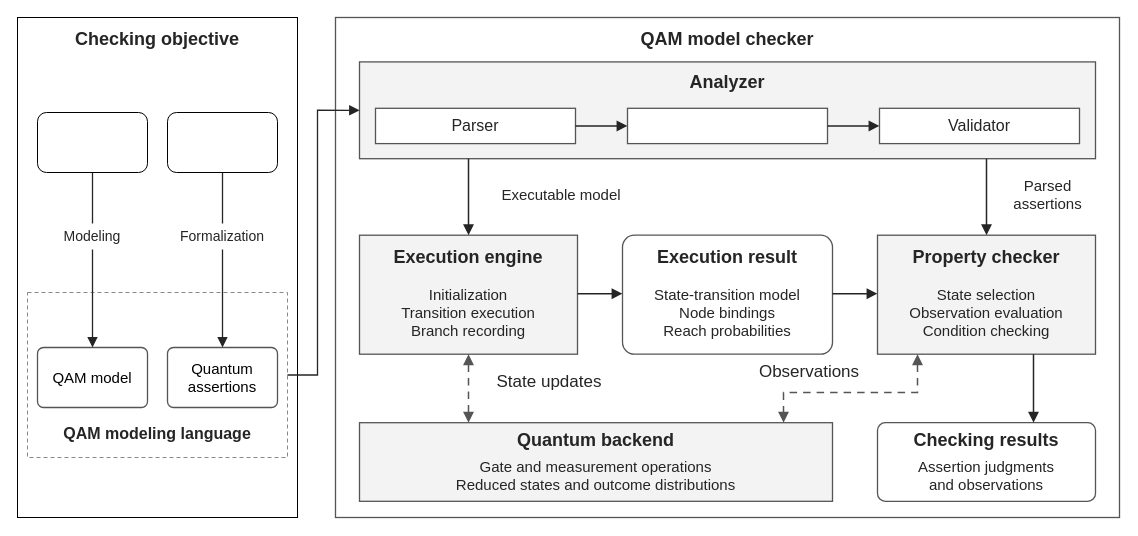
Image size: 1138x536. Some labels were removed from this diagram. Here are the shapes that lost their labels. From the top down, the centre of each, then its label:
At (92,142): "Quantum program".
At (222,142): "Properties".
At (727,125): "Normalizer".
